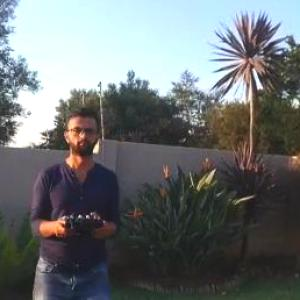follow: (20, 101, 124, 299)
